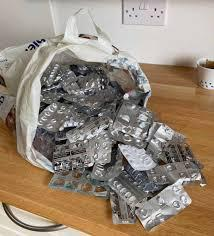pill_Strip: (135, 183, 190, 229), (111, 101, 152, 146), (49, 170, 108, 197), (147, 122, 184, 160), (113, 101, 151, 137), (109, 172, 147, 207), (146, 161, 200, 184), (53, 142, 93, 172), (124, 164, 164, 192), (66, 117, 110, 142), (38, 102, 74, 131), (91, 147, 122, 180), (163, 141, 201, 167), (119, 144, 156, 170), (110, 191, 135, 223), (88, 130, 111, 163), (109, 127, 145, 147), (32, 128, 54, 160), (41, 64, 60, 87), (40, 91, 63, 103)
